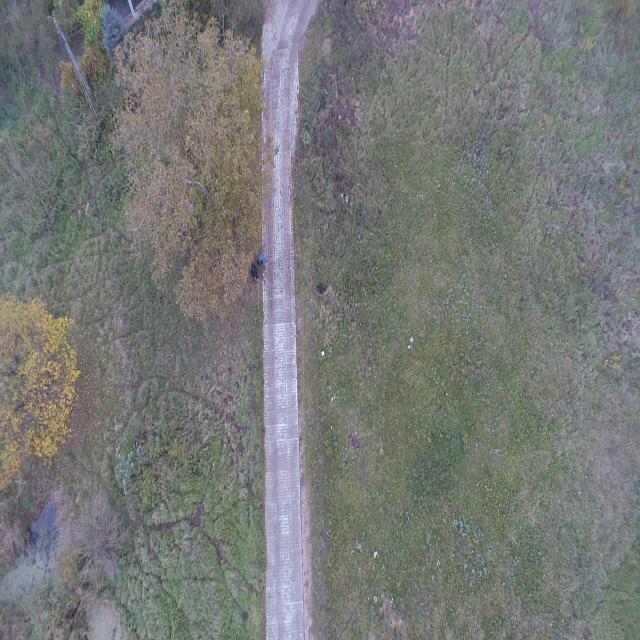p3rson: (250, 263, 258, 281), (258, 253, 266, 270)
